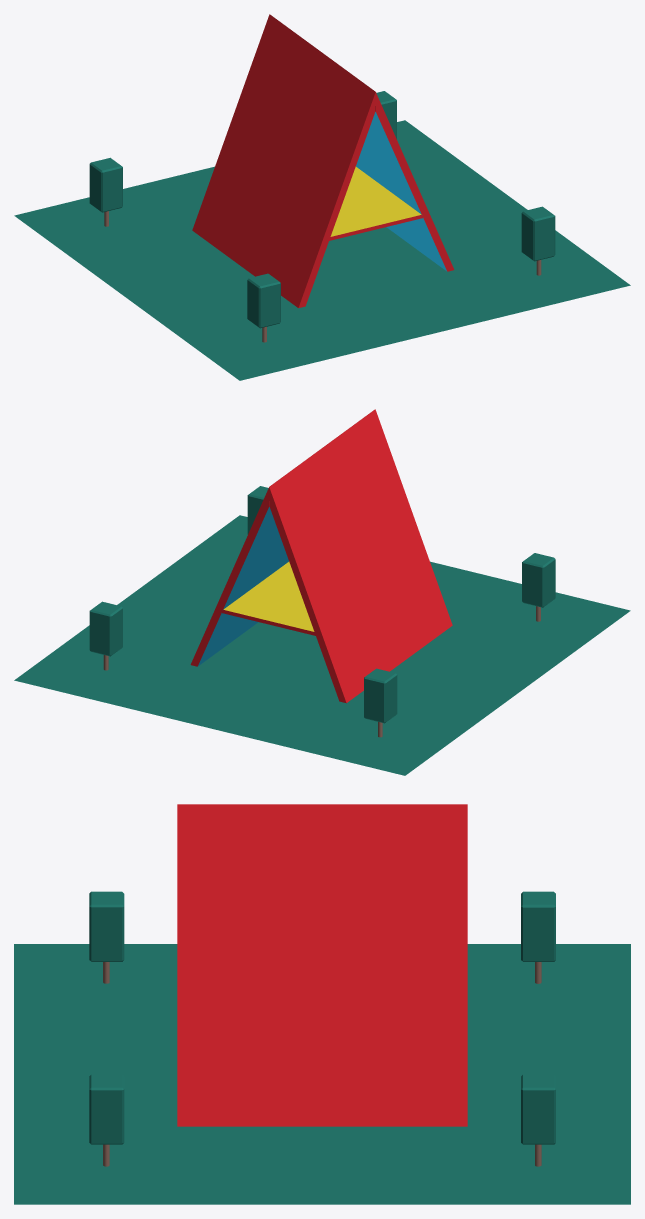
File: aframe.glb
3 renders of one model, top to bottom at view 1: azimuth 30°, elevation 25°; view 2: azimuth 150°, elevation 25°; view 3: azimuth 270°, elevation 25°, orthographic. The views are drawn at different scales.
Parts seen in each view (by area): view 1: Plane, Cube, Cube.001, Cylinder.002, Cylinder, Cylinder.003; view 2: Plane, Cube, Cube.001, Cube.003, Cylinder.003, Cylinder, Cylinder.002; view 3: Plane, Cube.001, Cylinder.002, Cylinder.003, Cylinder, Cube.003.
Boxes of the visible parts, <box> form: Plane: <box>14,120,630,380</box>; Cube: <box>192,14,422,308</box>; Cube.001: <box>271,15,454,271</box>; Cylinder.002: <box>521,206,555,275</box>; Cylinder: <box>89,157,122,226</box>; Cylinder.003: <box>247,273,280,342</box>; Plane: <box>14,515,630,775</box>; Cube: <box>222,409,452,703</box>; Cube.001: <box>190,410,373,666</box>; Cube.003: <box>89,601,122,670</box>; Cylinder.003: <box>522,553,555,621</box>; Cylinder: <box>364,668,397,737</box>; Cylinder.002: <box>247,486,268,534</box>; Plane: <box>14,944,630,1204</box>; Cube.001: <box>177,804,467,1126</box>; Cylinder.002: <box>89,1074,124,1166</box>; Cylinder.003: <box>89,891,124,983</box>; Cylinder: <box>521,891,555,983</box>; Cube.003: <box>521,1074,555,1166</box>.
Size of the model in its own units: 2 by 0.9656 by 2.
